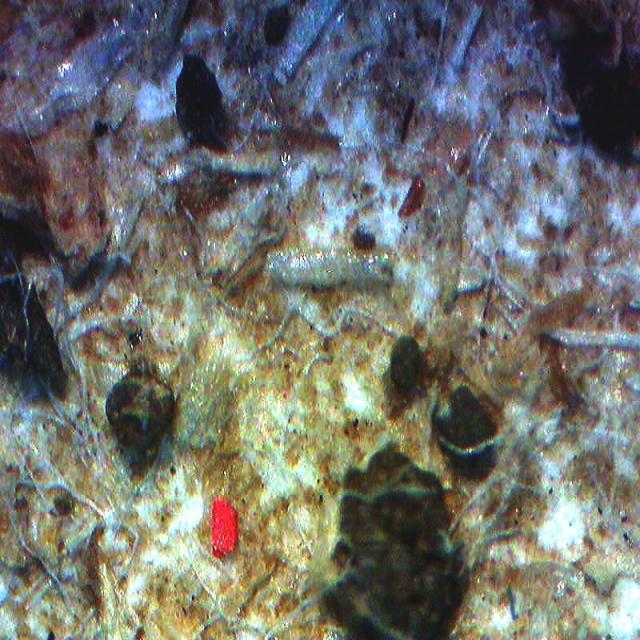microplastic: (211, 495, 238, 555)
